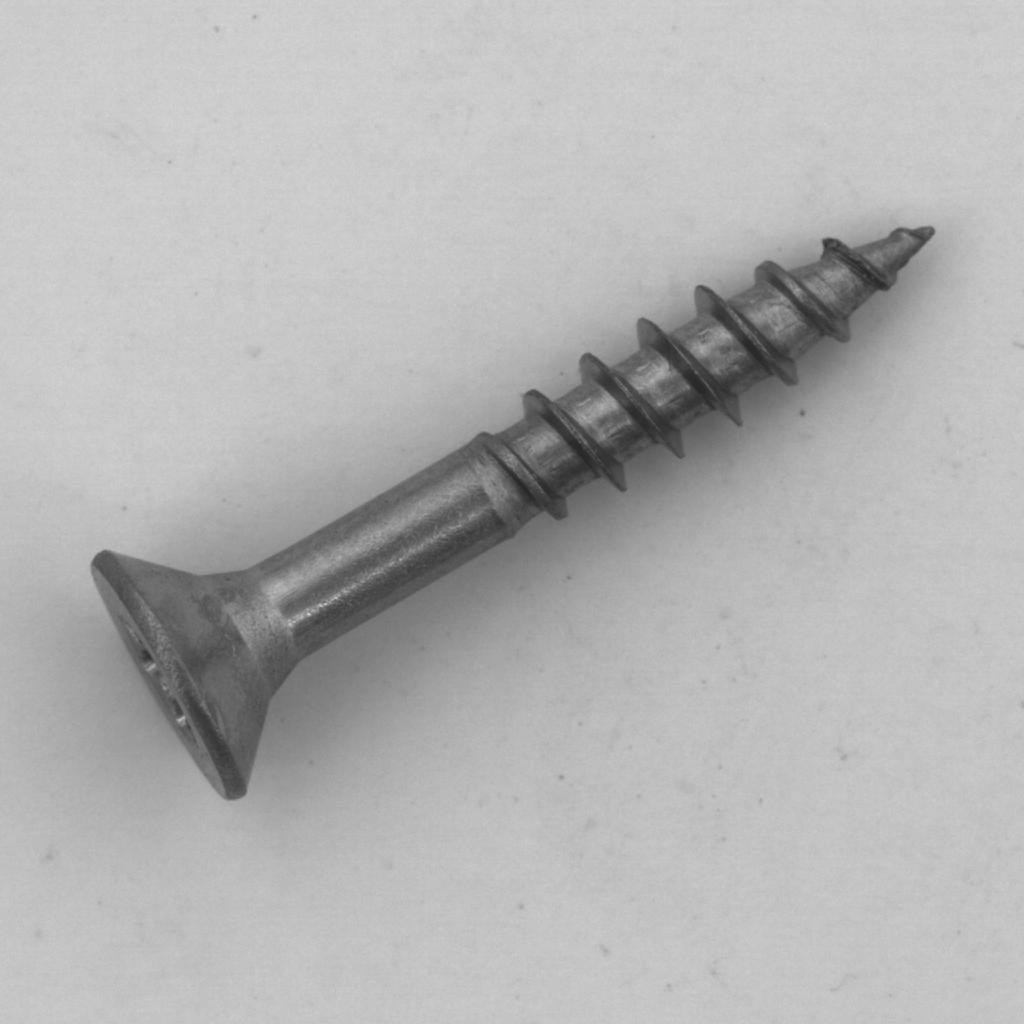good: (75, 200, 958, 822)
